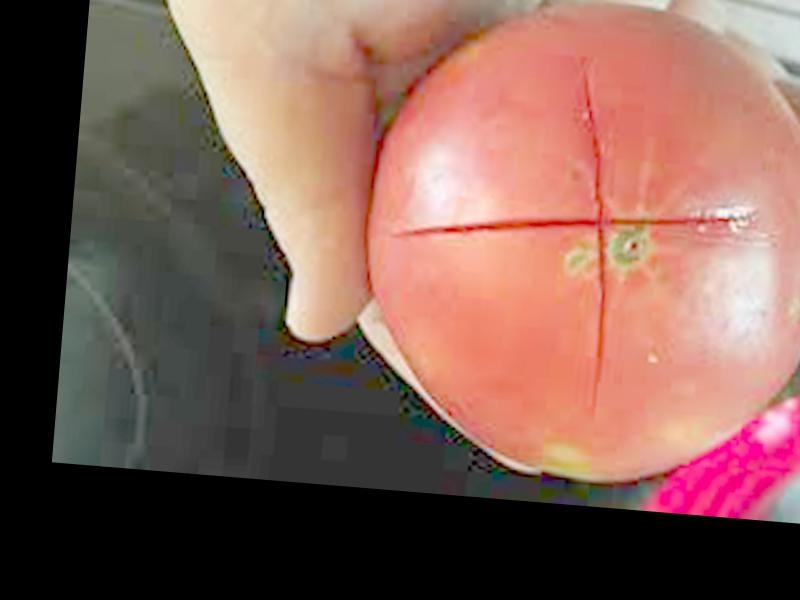Tomato: (362, 15, 800, 495)
